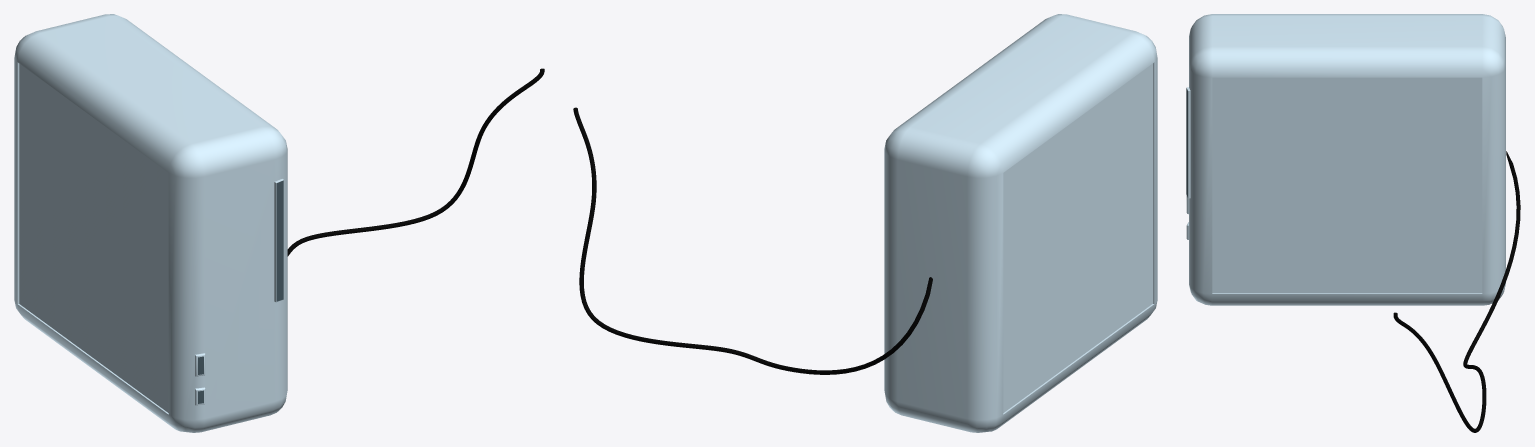
File: computer_with_wire.fbx
3 renders of one model, left to right at view 1: azimuth 30°, elevation 25°; view 2: azimuth 150°, elevation 25°; view 3: azimuth 270°, elevation 25°, orthographic. The views are drawn at different scales.
Parts seen in each view (by area): view 1: pCube98; view 2: pCube98; view 3: pCube98.
Part boxes in pixels (x1,y1,x2,y2): pCube98: (14,14,544,432); pCube98: (573,14,1157,432); pCube98: (1186,14,1520,432).
Bounding box in the file's own units: 1.32 × 0.7525 × 0.8958.
